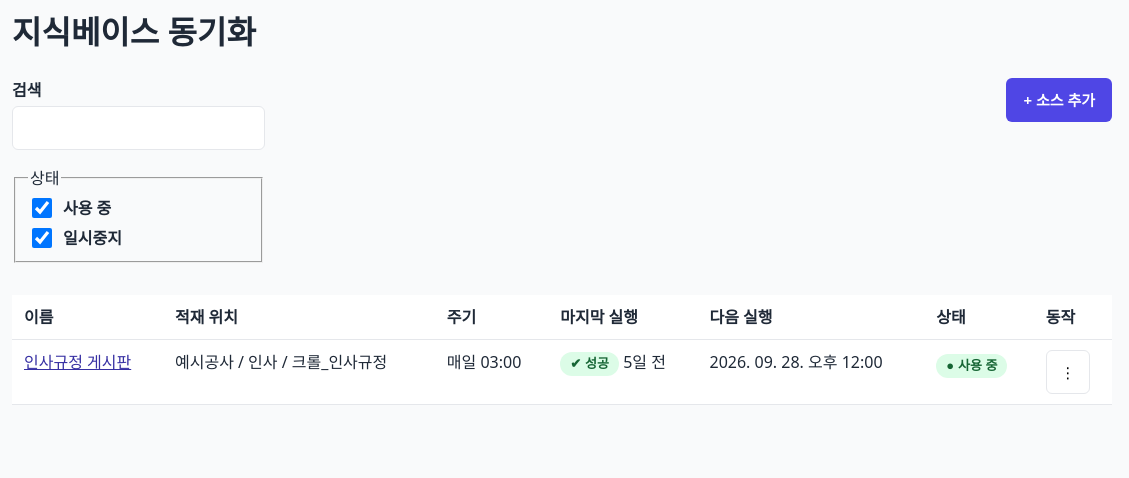
Test: KbSourcesPage › 검색 결과가 0건이면 "소스 없음"과 다른 문구(검색 결과가 없습니다)를 보여준다
Type "없는이름" into the field labelled "검색" at (138, 128), box [12, 106, 265, 150]
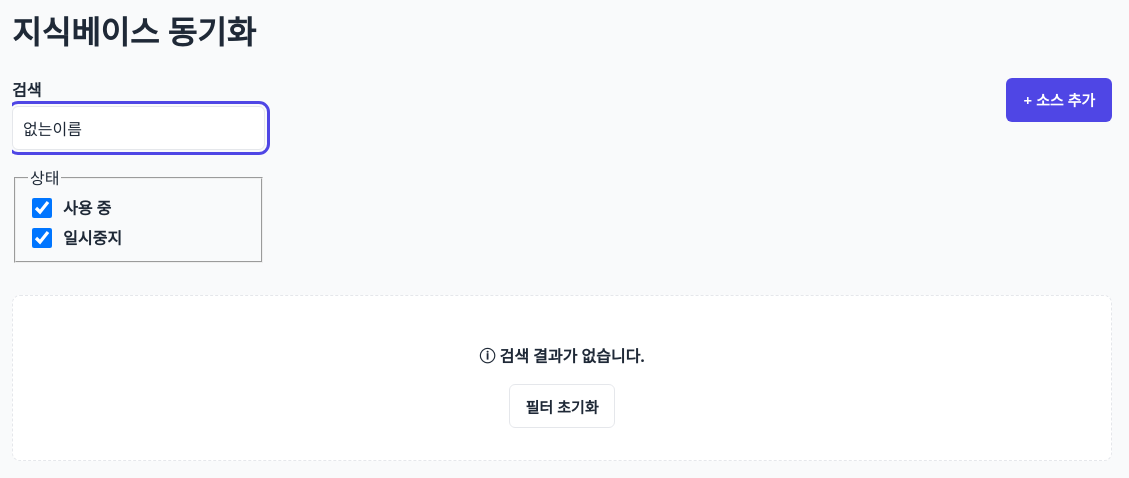
Result: the text "검색 결과가 없습니다." is shown at [499, 346, 645, 368]
